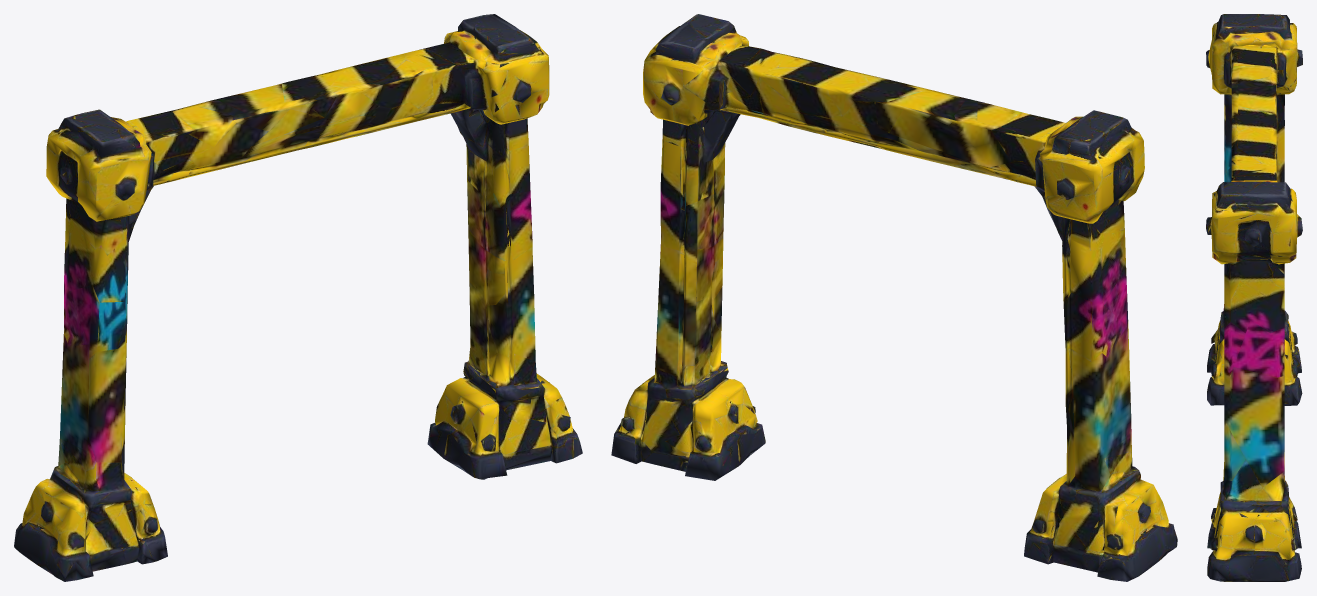
Rendered from gantry_gate.glb.
3 views of the same model, side by side, from view 1: azimuth 30°, elevation 25°; view 2: azimuth 150°, elevation 25°; view 3: azimuth 270°, elevation 25° (orthographic). The views are drawn at different scales.
Size of the model in its own units: 1.9 by 1.46 by 0.3495.
Materials: 1 (1 with a texture image).
